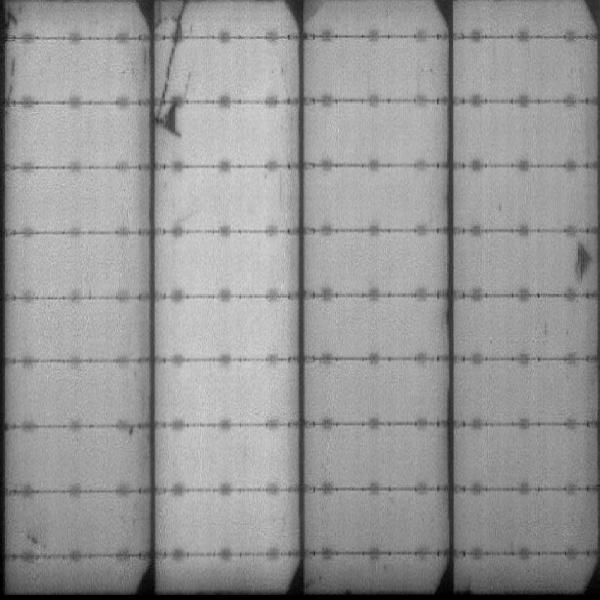broken: (155, 106, 186, 139)
scratch: (162, 1, 194, 98), (7, 41, 15, 101)
